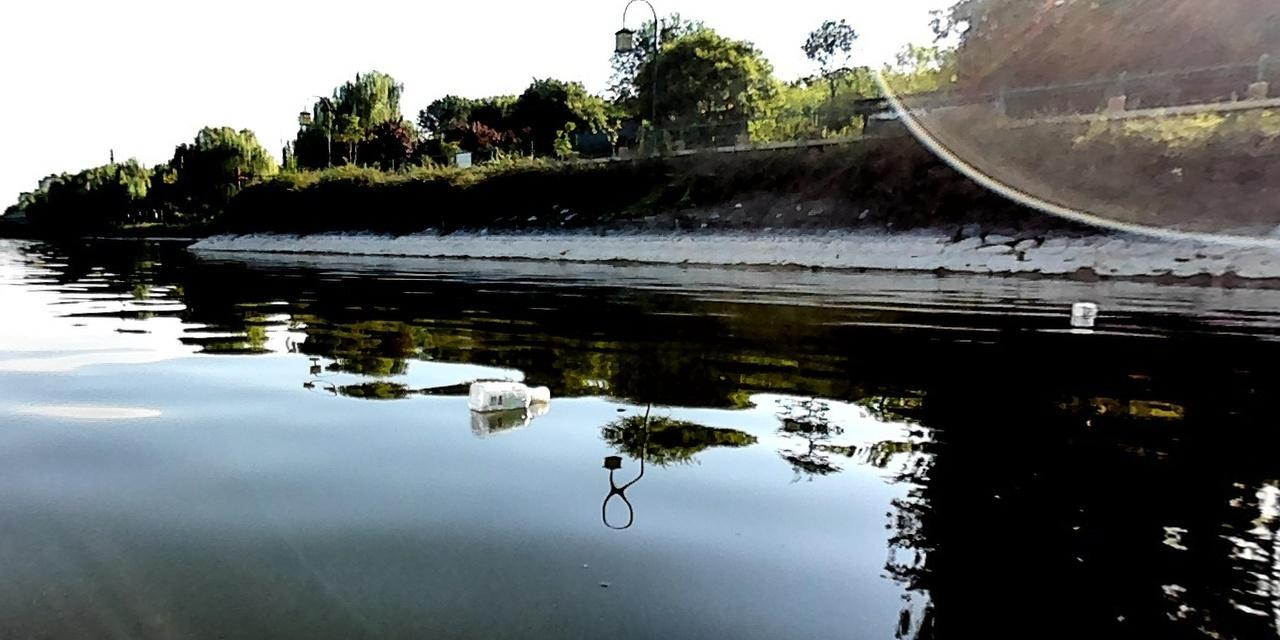bottle: (464, 376, 556, 415), (1069, 298, 1101, 319)
